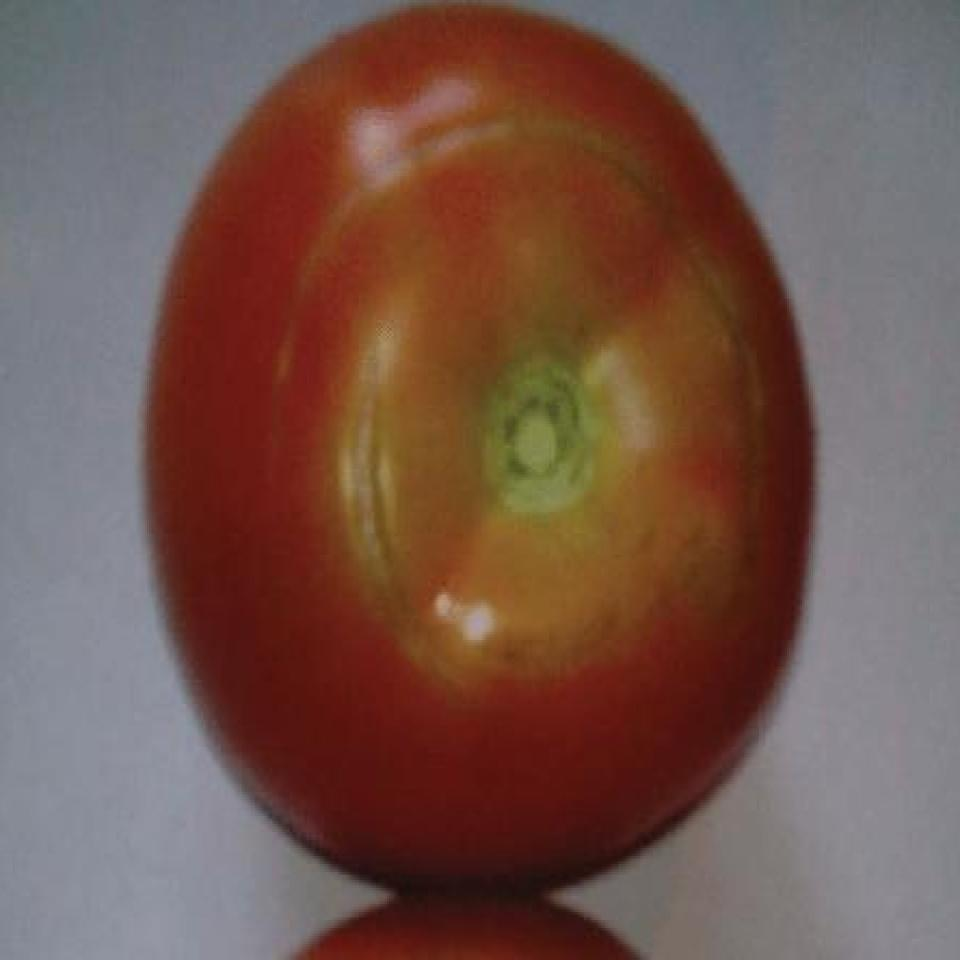Cracking: (249, 93, 792, 700), (300, 339, 466, 737)
